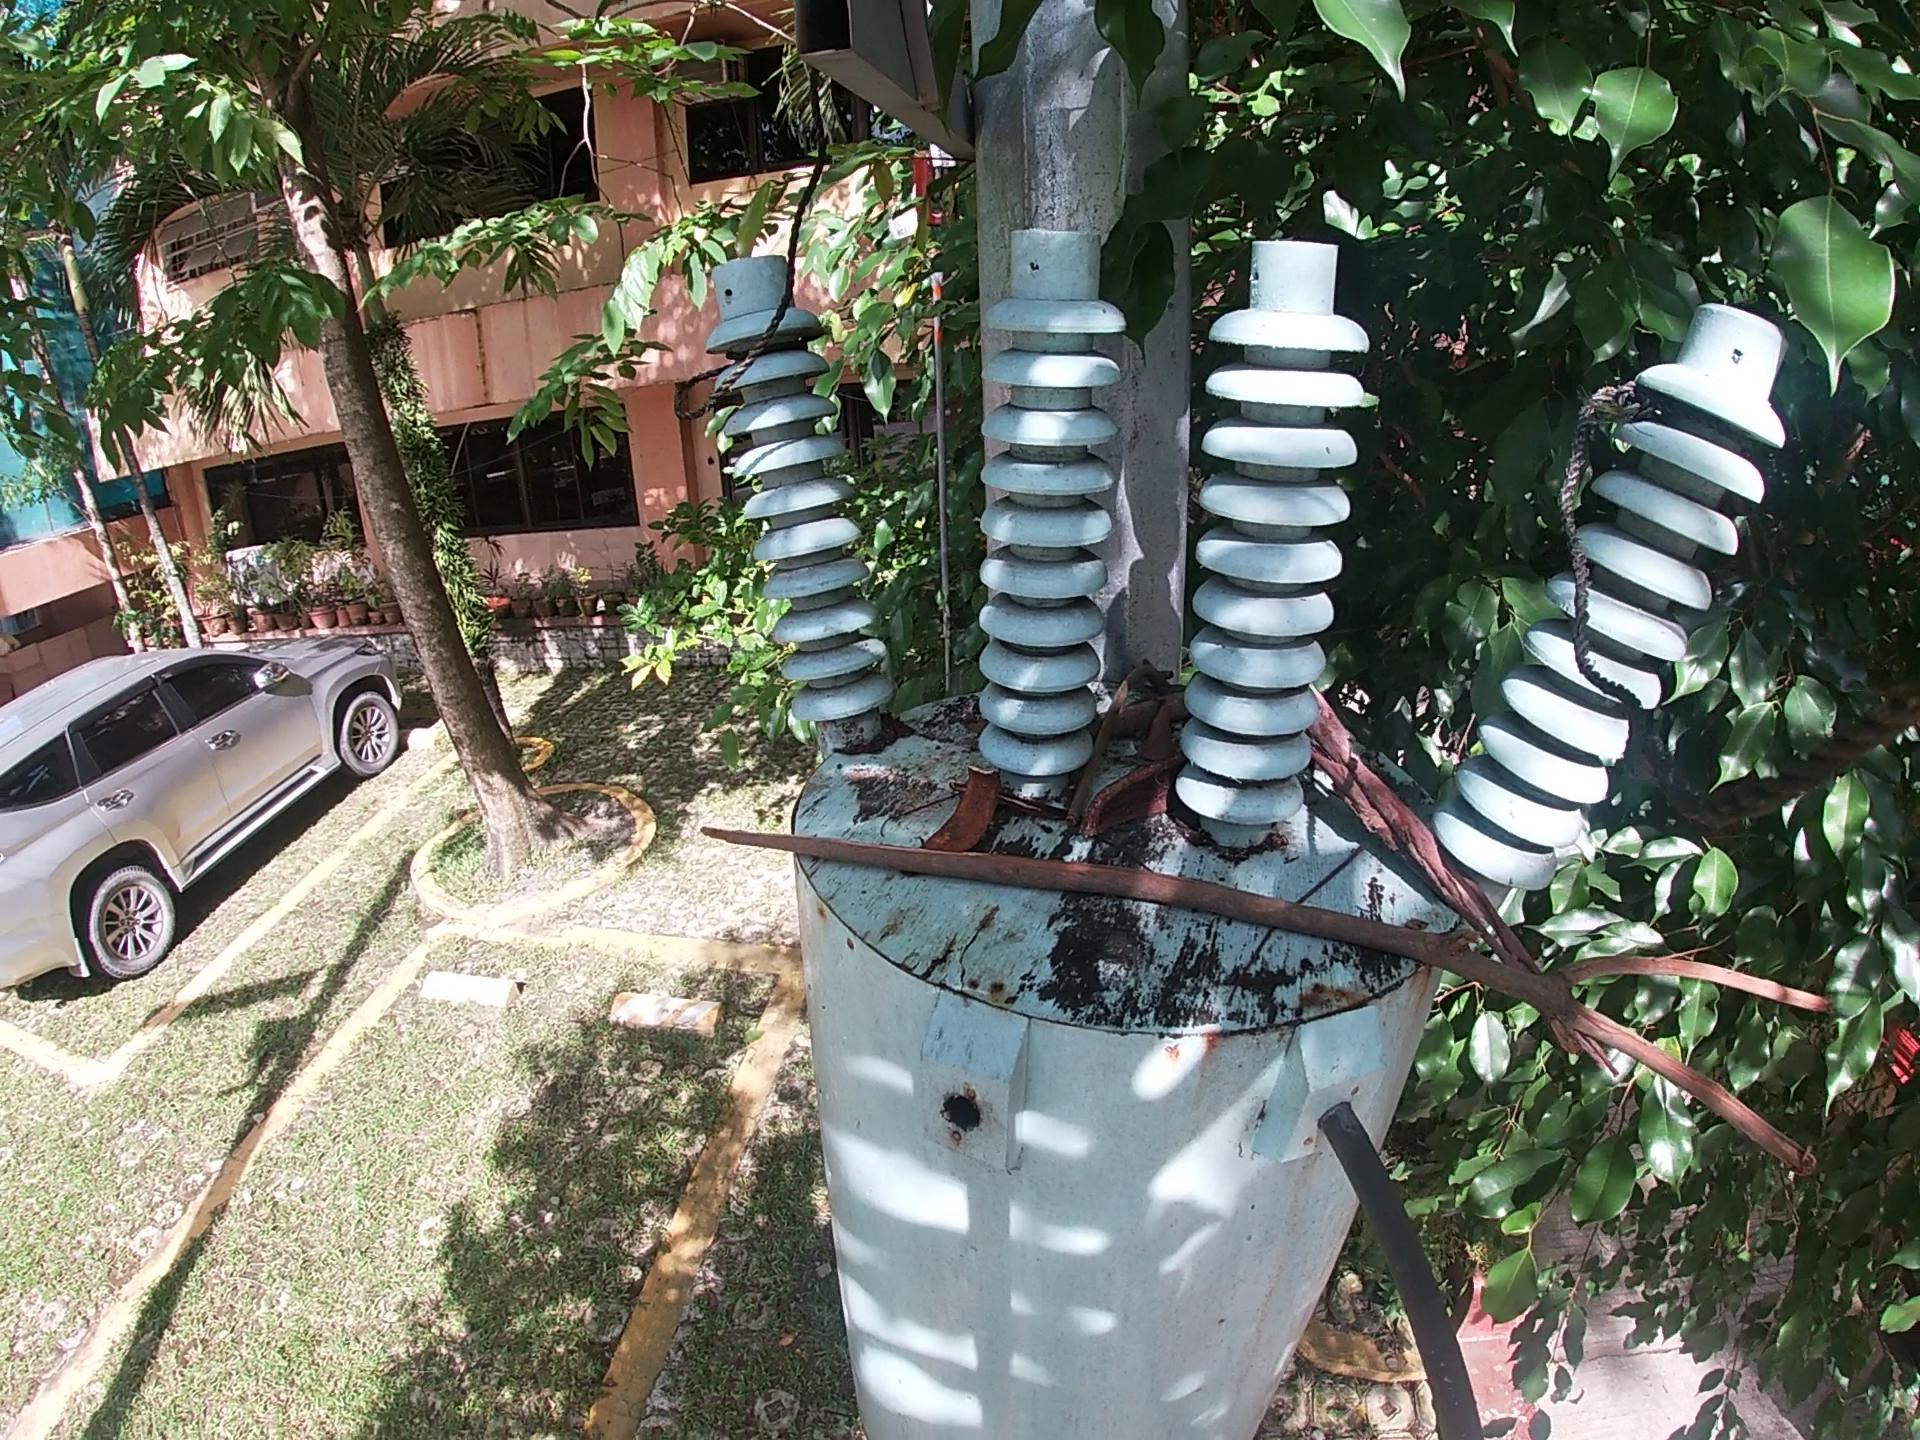leaf: (1125, 694, 1194, 777)
mahogany fruit: (904, 764, 1010, 850), (1067, 771, 1196, 839)
tree branch: (643, 808, 1860, 1187), (1311, 691, 1541, 970), (1223, 835, 1370, 1021), (1055, 655, 1175, 824), (1067, 685, 1200, 750), (866, 793, 933, 839), (996, 793, 1057, 821)
